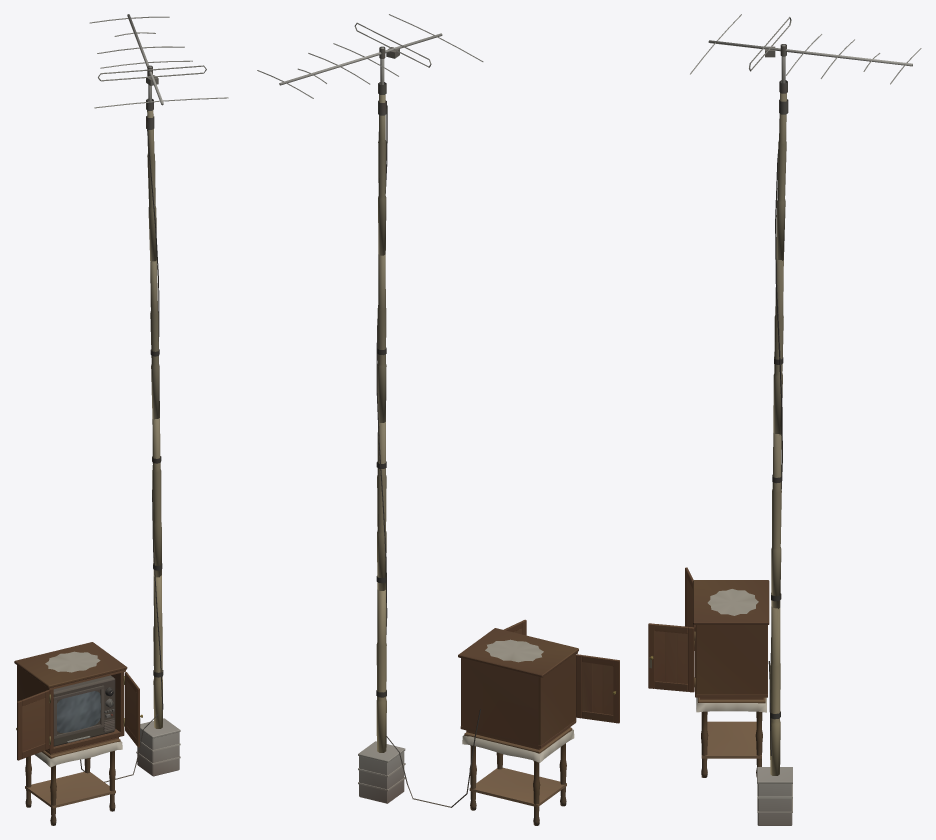
Rendered from tv_cabinet_v2_b.glb.
3 renders of one model, left to right at view 1: azimuth 30°, elevation 25°; view 2: azimuth 150°, elevation 25°; view 3: azimuth 270°, elevation 25°, orthographic. The views are drawn at different scales.
Visible parts, largest first — view 1: hb_wood, hb_main, hb_metal; view 2: hb_wood, hb_metal, hb_main; view 3: hb_wood, hb_metal, hb_main.
Part boxes in pixels (<box>): hb_wood: <box>14,110,162,825</box>; hb_main: <box>34,75,163,782</box>; hb_metal: <box>16,14,228,776</box>; hb_wood: <box>376,94,619,825</box>; hb_metal: <box>257,14,616,803</box>; hb_main: <box>376,47,574,807</box>; hb_wood: <box>648,93,786,777</box>; hb_metal: <box>649,14,921,825</box>; hb_main: <box>696,46,783,755</box>.
Bounding box in the file's own units: 2.16 × 5.92 × 1.89.
